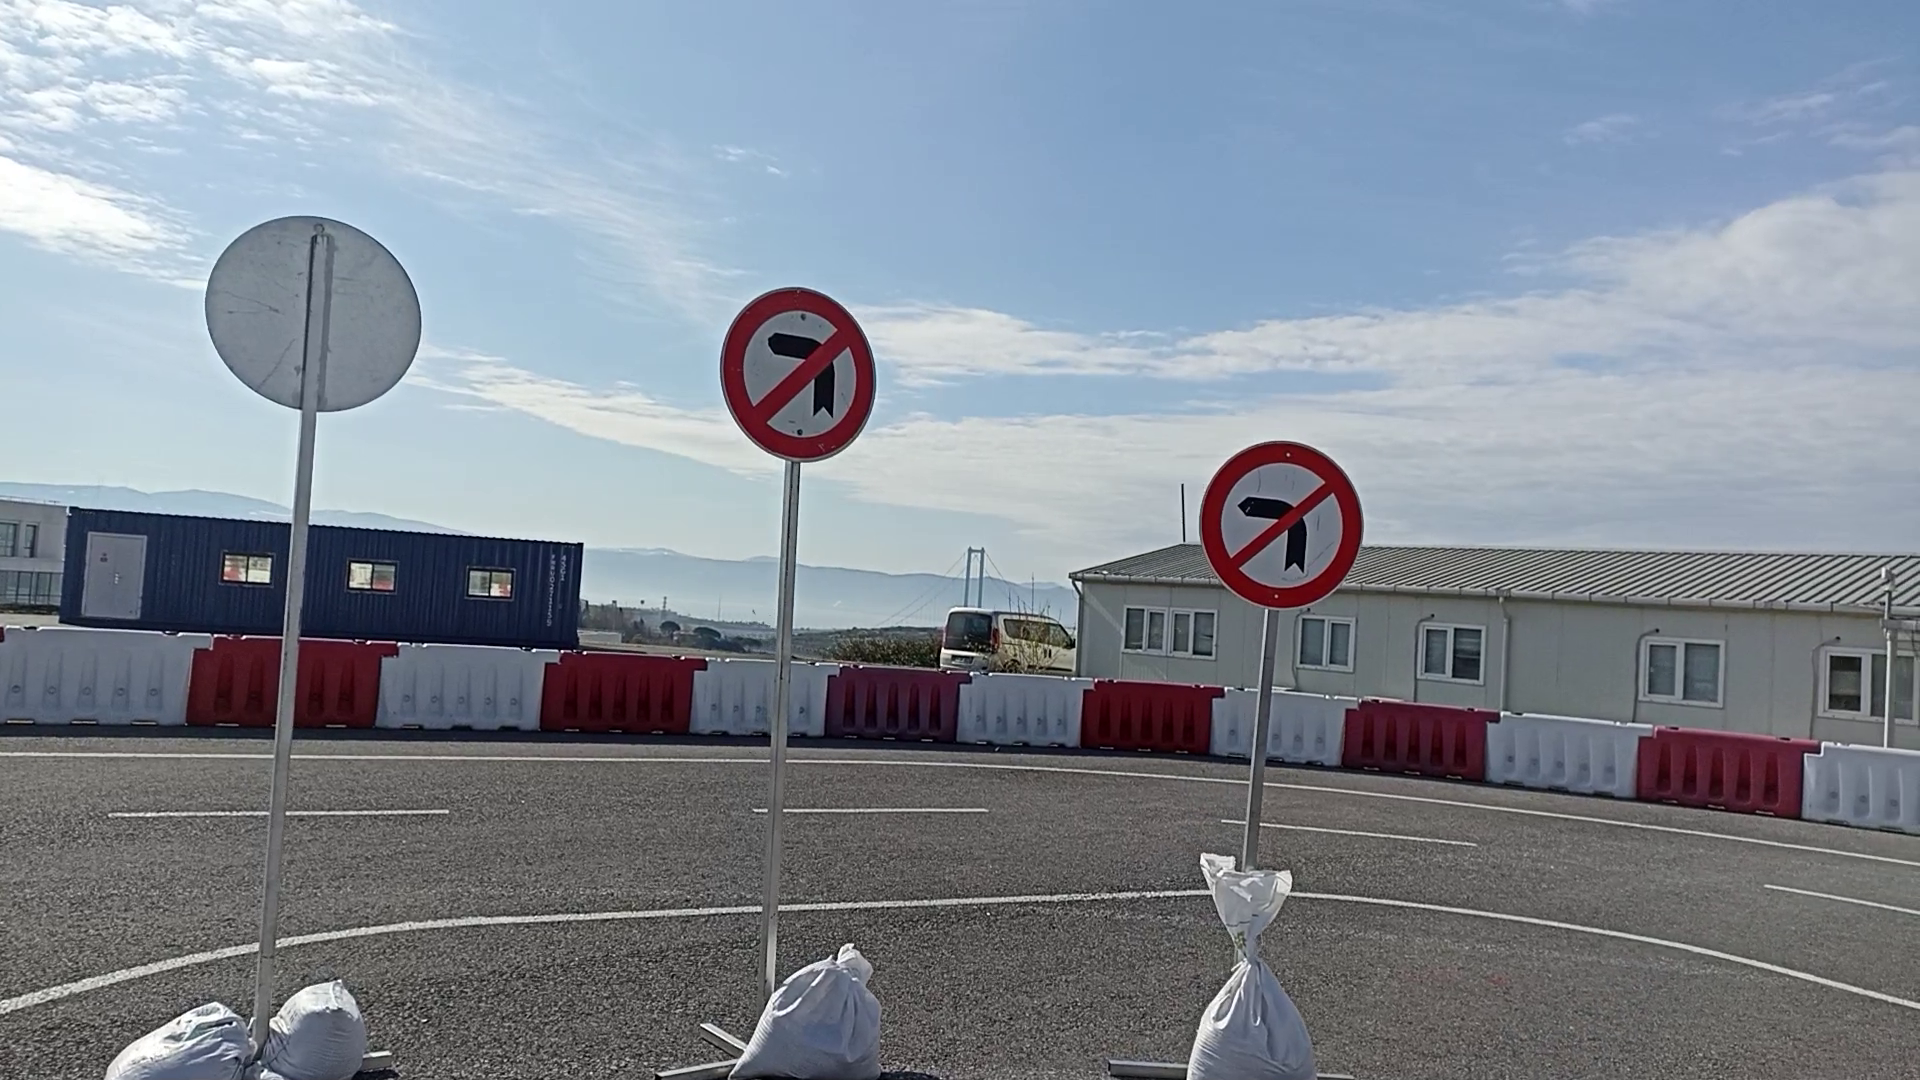noleft: (1197, 436, 1366, 613), (717, 284, 880, 465)
